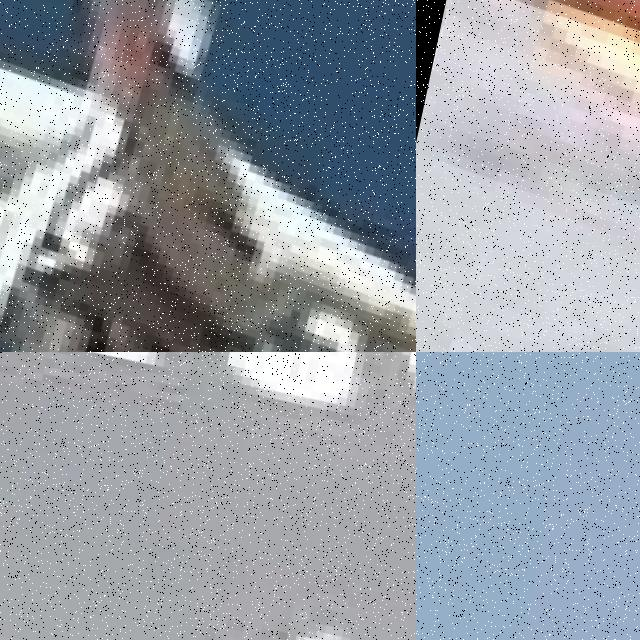drone: (0, 0, 416, 352), (416, 0, 640, 352)
